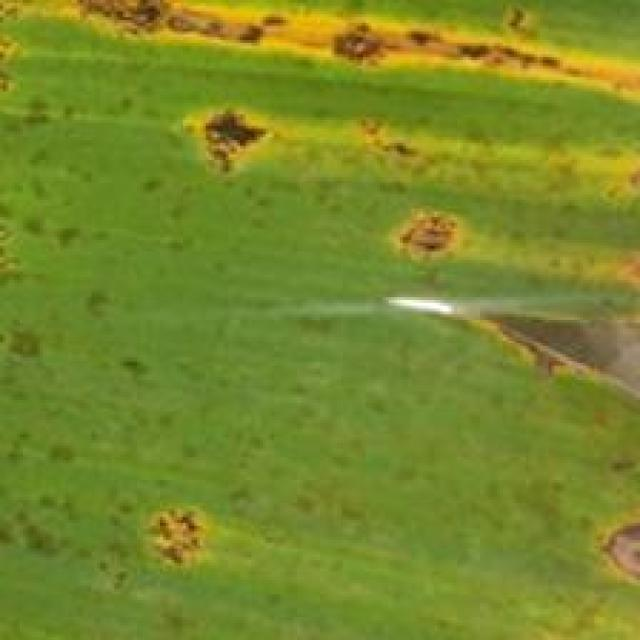Downey_mildrew: (3, 0, 640, 206), (0, 206, 232, 640), (94, 468, 306, 612), (483, 307, 639, 400), (366, 203, 518, 284), (588, 497, 640, 640)
